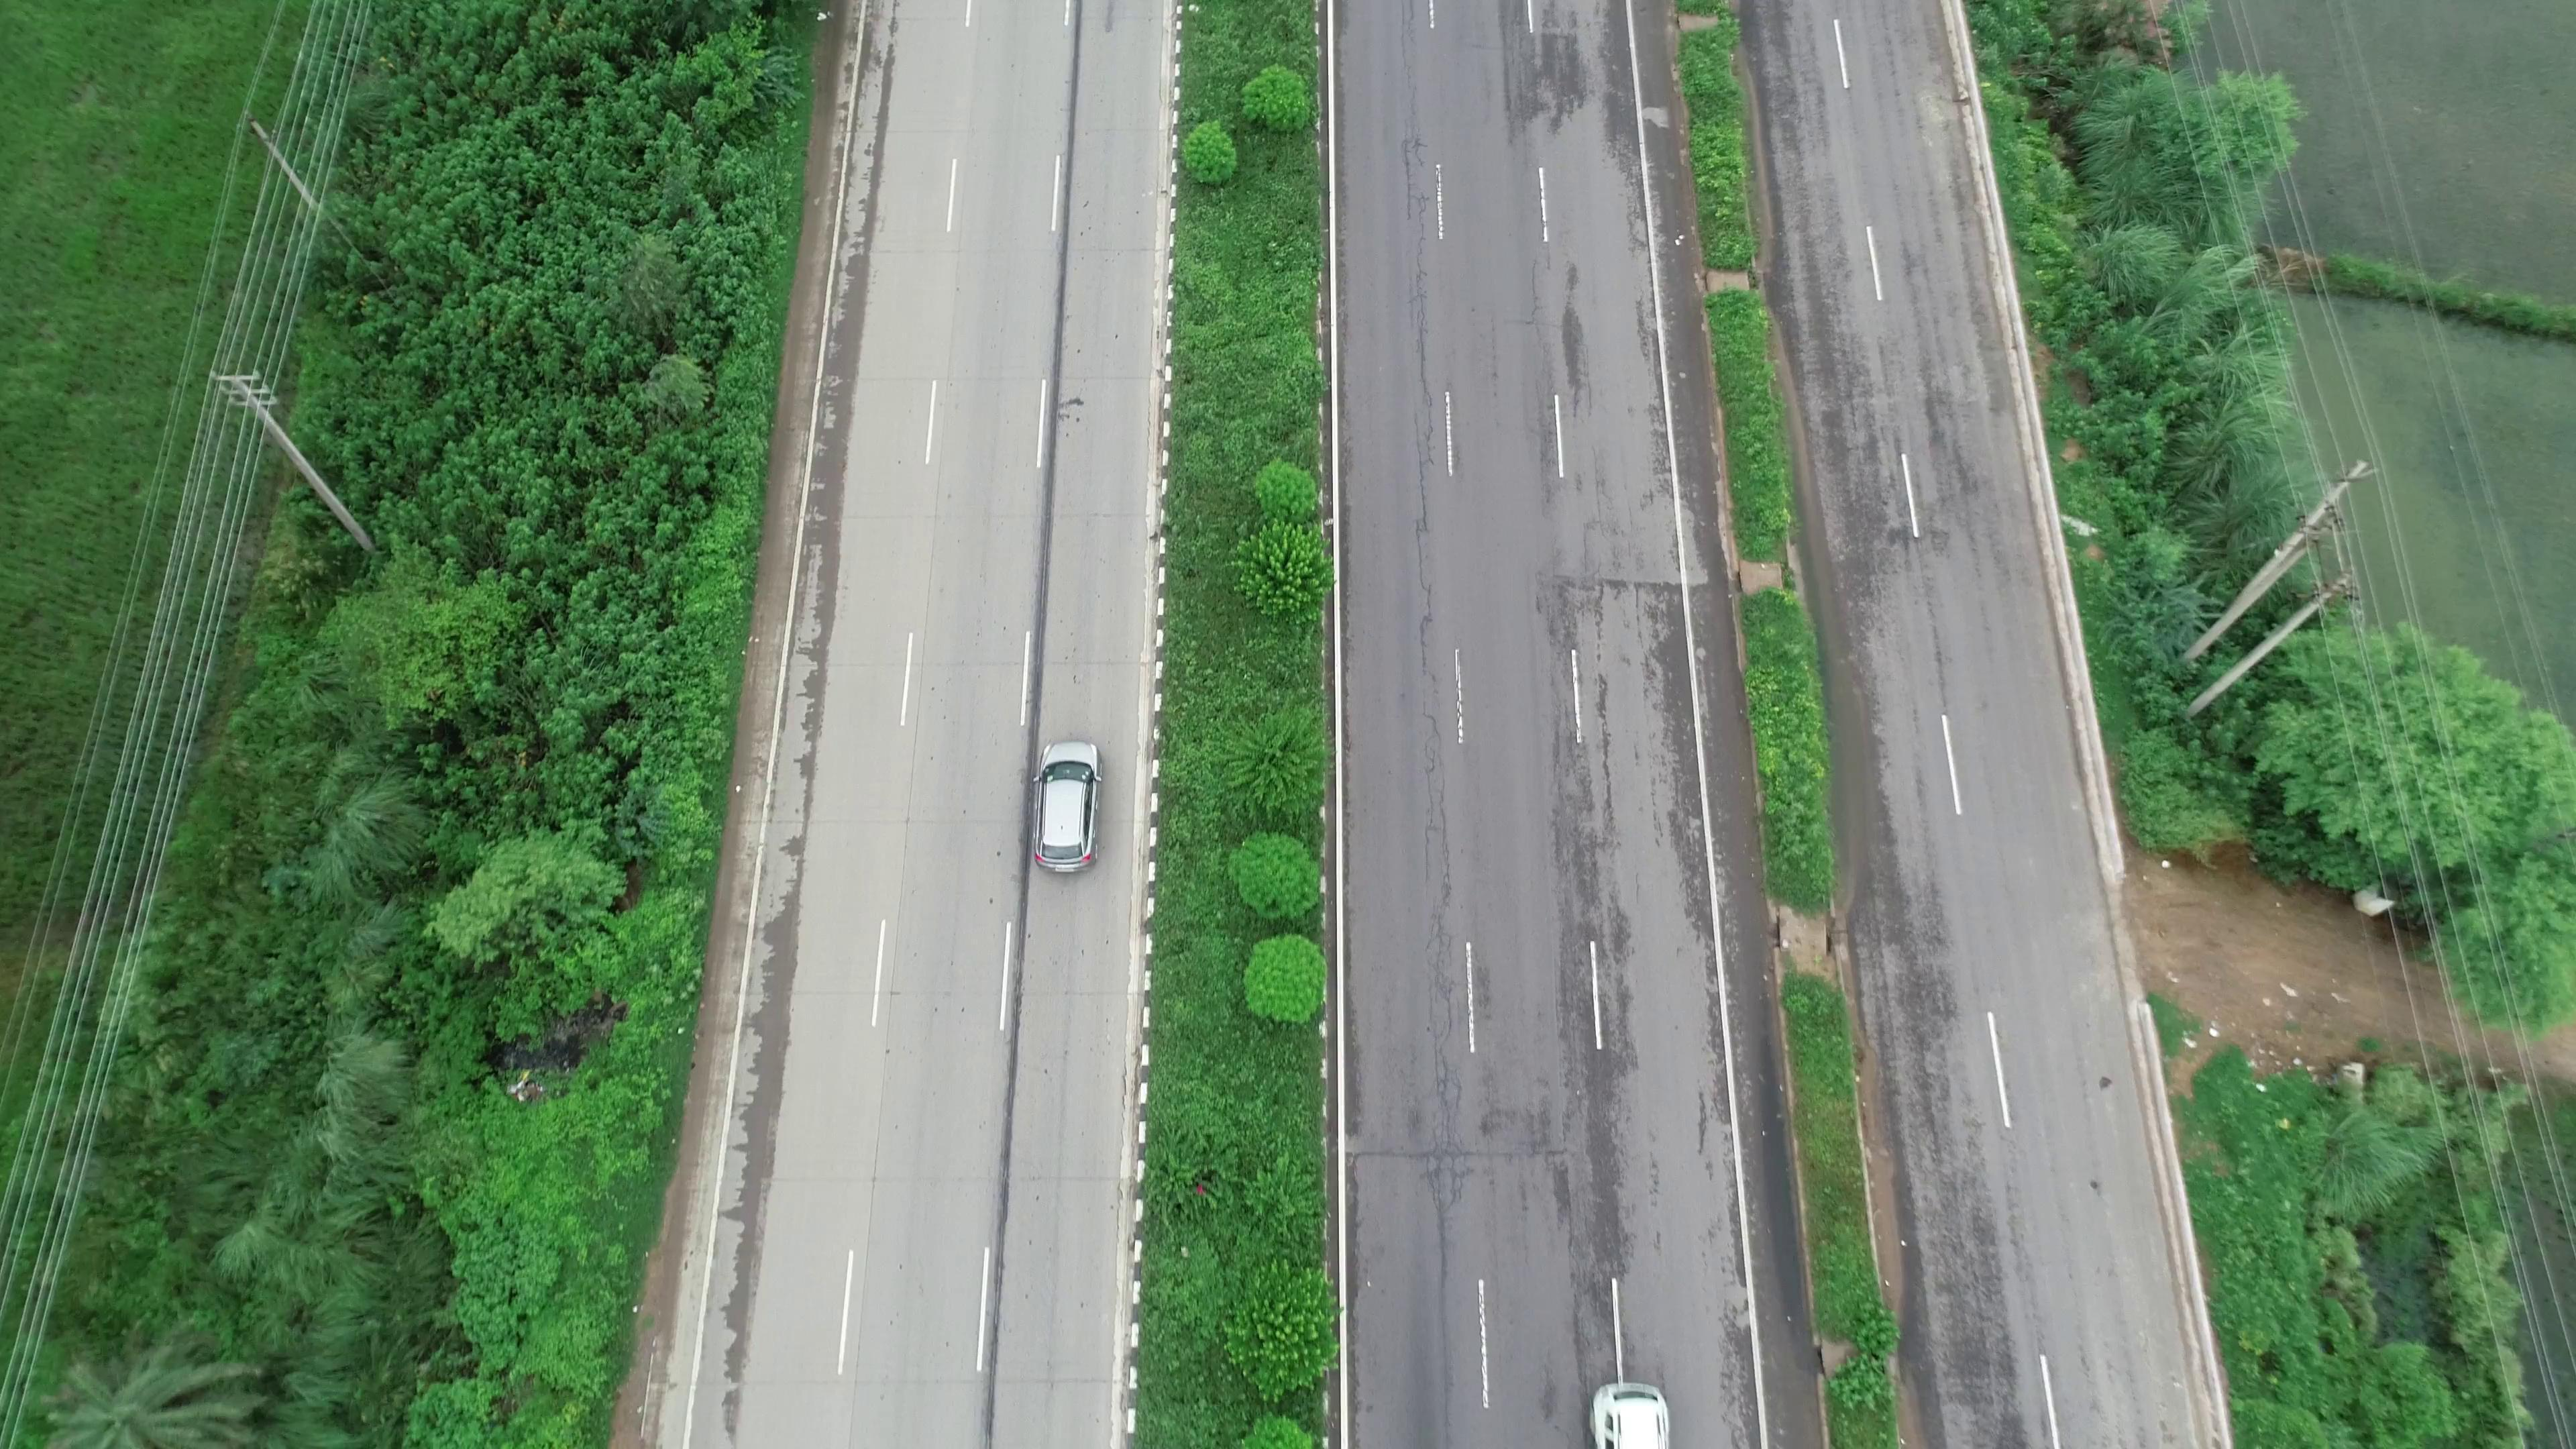Longitudinal_cracks: (1392, 85, 1472, 1182)
Ravelling: (1548, 669, 1628, 1269)
